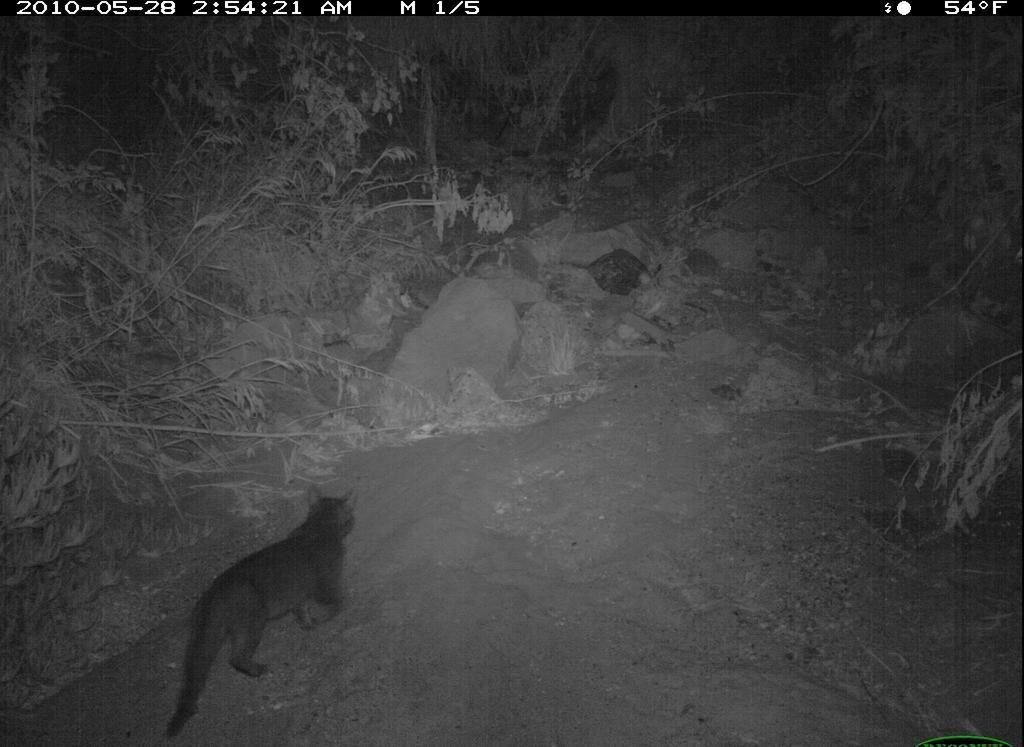cat: (158, 481, 368, 744)
